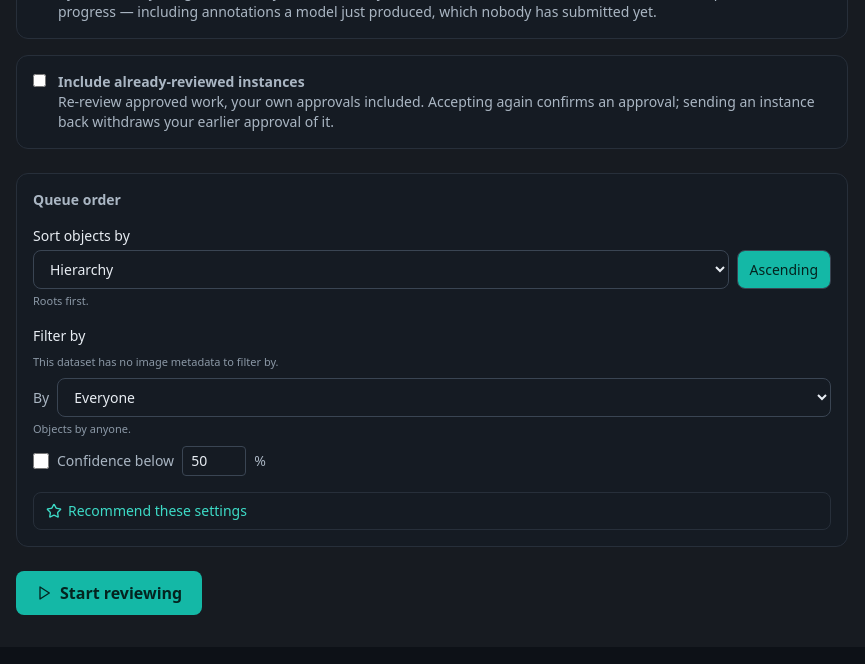
Test: an empty queue keeps the reviewer on the setup with a plain message
The width and height of the screenshot is (865, 664).
(page scrolled)
Click the button "Start reviewing" at (109, 592), box [16,570,202,614]
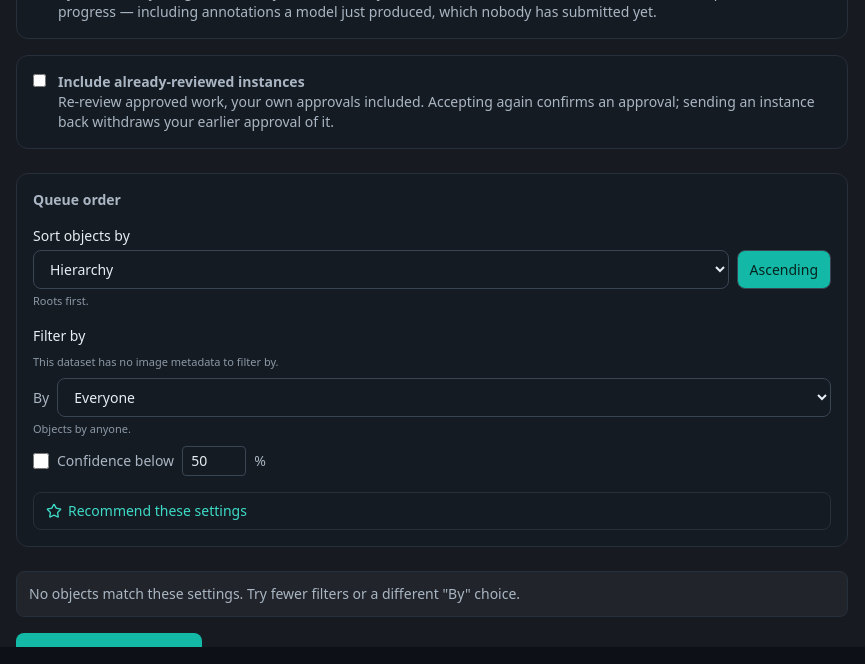
Expected: the text "No objects match these settings. Try fewer filters or a different \"By\" choice." is shown, [16,570,848,616]
